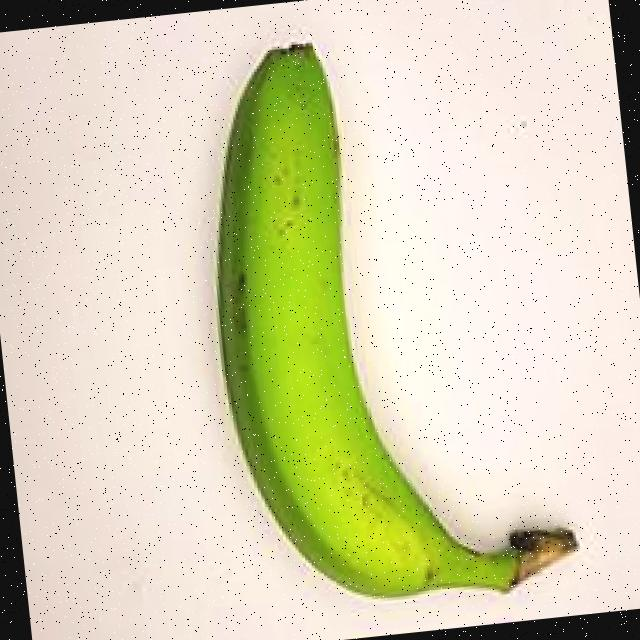Unripe: (154, 0, 604, 635)
